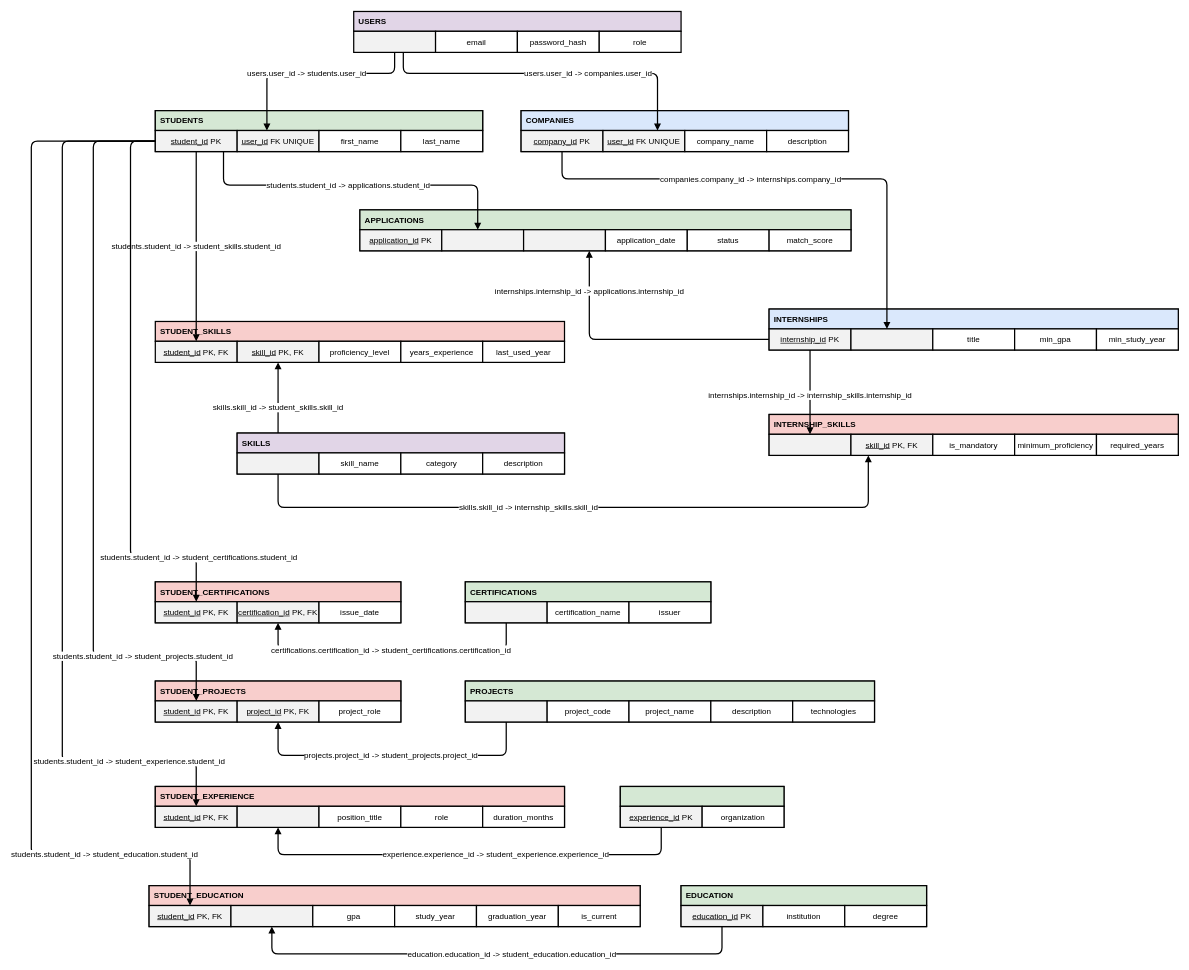
The diagram is 1189 pixels wide and 970 high, and some of its shapes have lost their labels. The centre of each missing label's shape, as x and y in pixels:
certification_id PK: the point at 505,612
company_id FK: the point at 891,339
education_id PK, FK: the point at 271,916
EXPERIENCE: the point at 701,796
experience_id PK, FK: the point at 277,816
internship_id FK: the point at 564,240
internship_id PK, FK: the point at 809,444
project_id PK: the point at 505,711
skill_id PK: the point at 277,463
student_id FK: the point at 482,240
user_id PK: the point at 394,41
